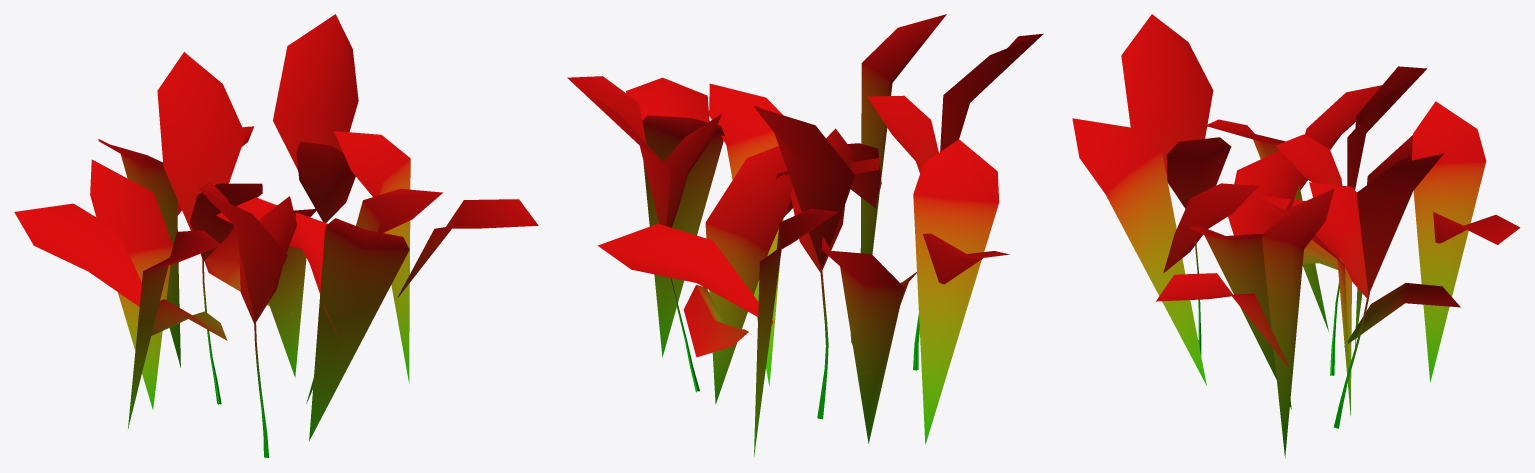
File: Lily Of The Valley_LOD6_Var4_xikkdhjja.fbx
The picture shows the model from 3 angles, left to right: view 1: azimuth 30°, elevation 25°; view 2: azimuth 150°, elevation 25°; view 3: azimuth 270°, elevation 25°; orthographic projection. The views are drawn at different scales.
Visible parts, largest first — view 1: _zlt1_Var4_LOD6; view 2: _zlt1_Var4_LOD6; view 3: _zlt1_Var4_LOD6.
Boxes of the visible parts, left/top/right/bottom form: _zlt1_Var4_LOD6: left=14, top=14, right=538, bottom=458; _zlt1_Var4_LOD6: left=567, top=14, right=1043, bottom=456; _zlt1_Var4_LOD6: left=1072, top=14, right=1520, bottom=458.
Bounding box in the file's own units: 56.88 × 41.41 × 53.28.
